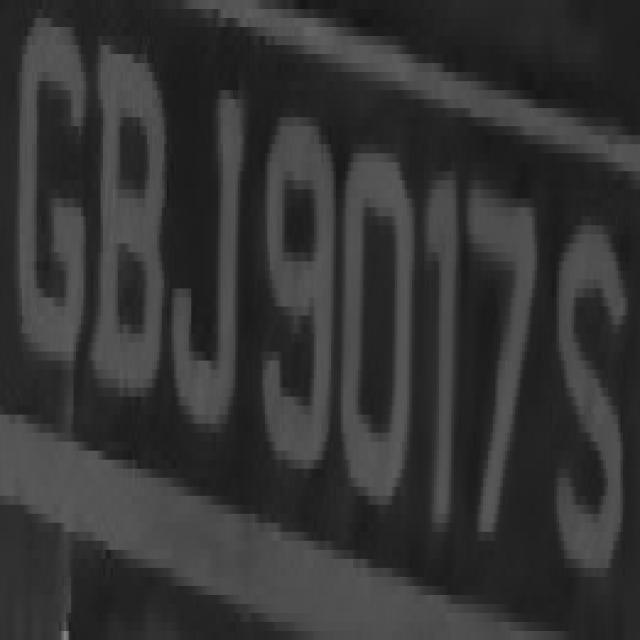0: (331, 126, 417, 577)
1: (417, 135, 463, 568)
7: (468, 135, 540, 577)
9: (260, 81, 336, 523)
B: (98, 27, 167, 433)
G: (17, 9, 96, 397)
J: (166, 36, 248, 460)
S: (552, 171, 635, 604)
